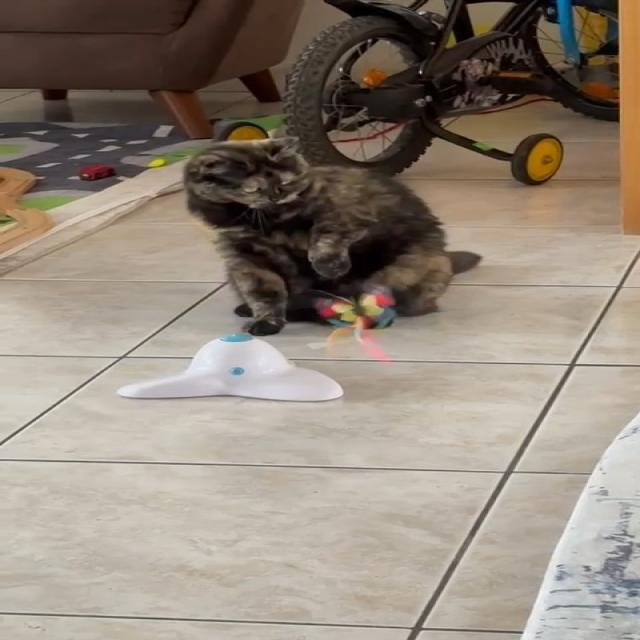authorized: (182, 134, 482, 336)
